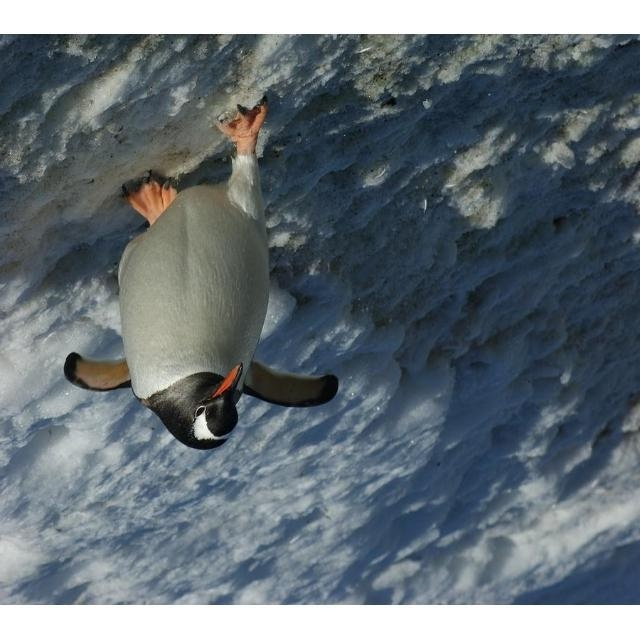penguin: (64, 94, 337, 449)
